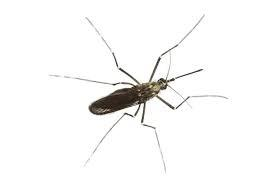insect: (46, 9, 233, 176)
